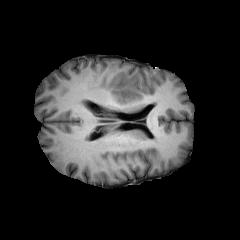glioma: (106, 70, 157, 107)
